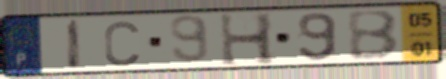9: (168, 13, 212, 69), (295, 11, 338, 63)
B: (344, 8, 401, 62)
C: (101, 19, 142, 68)
H: (217, 11, 278, 68)
I: (66, 18, 84, 72)
